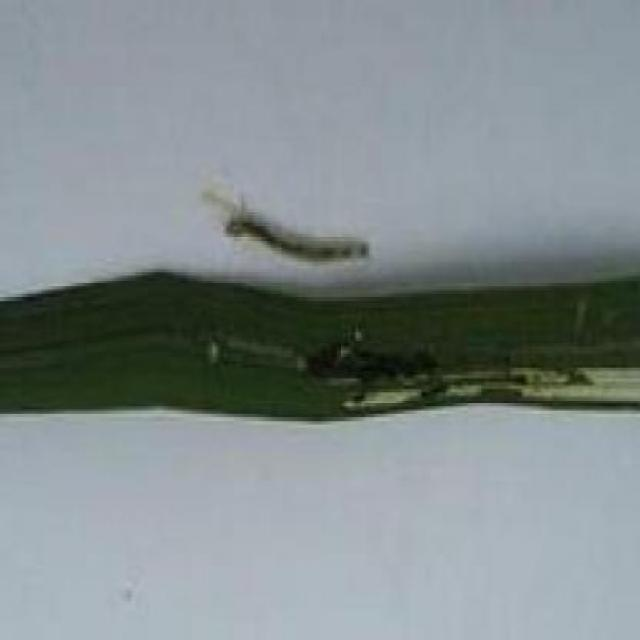leaf-folder: (189, 170, 431, 288)
